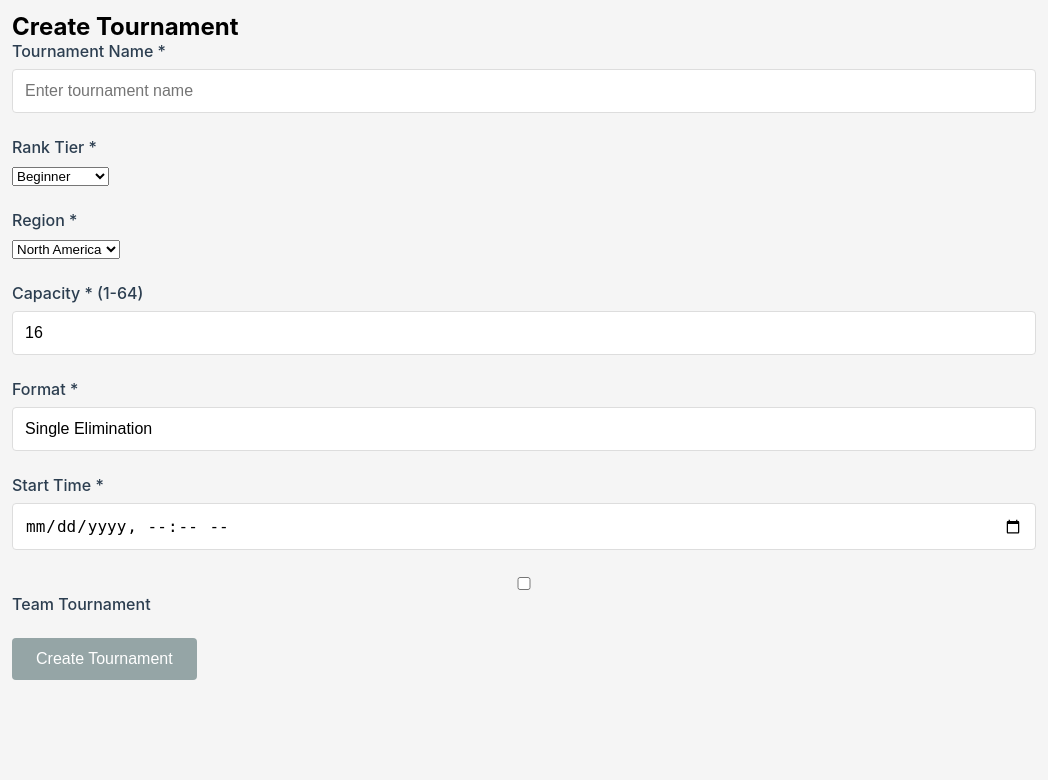
Test case: TournamentForm Component › should mark team_size as required for team tournaments
Note: Enable team tournament
Click the checkbox labelled "Team Tournament": (524, 584) [12,577,1036,590]
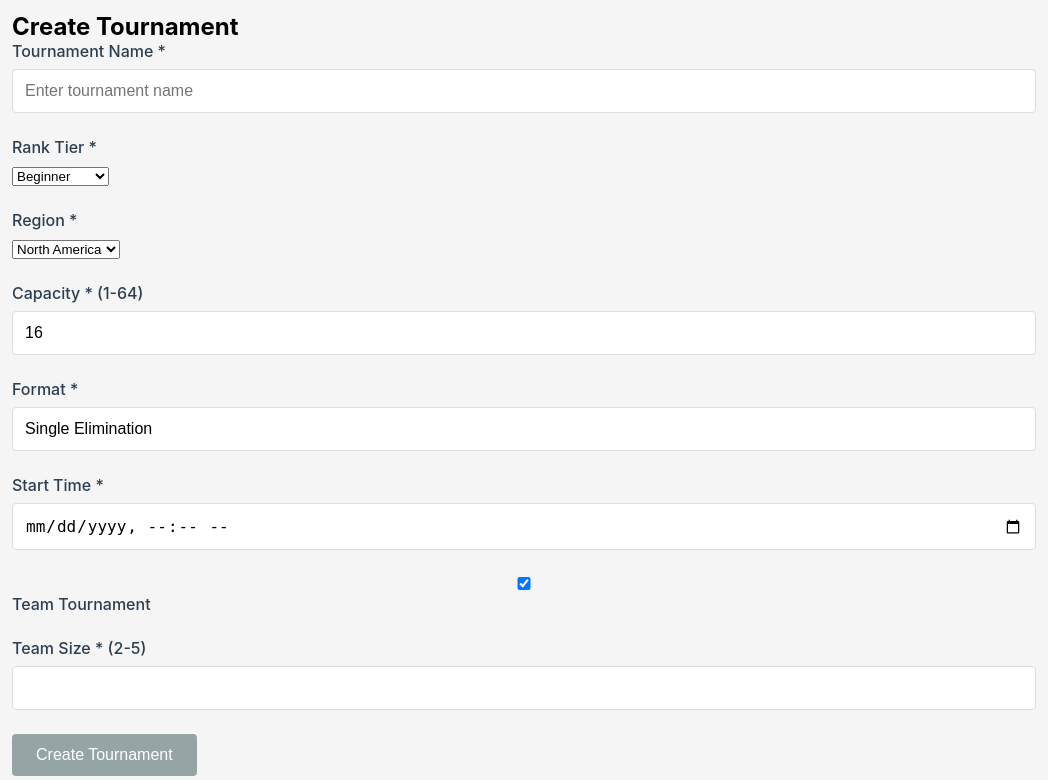
Now the number field labelled "Team Size * (2-5)" is shown, box [12,666,1036,710]
